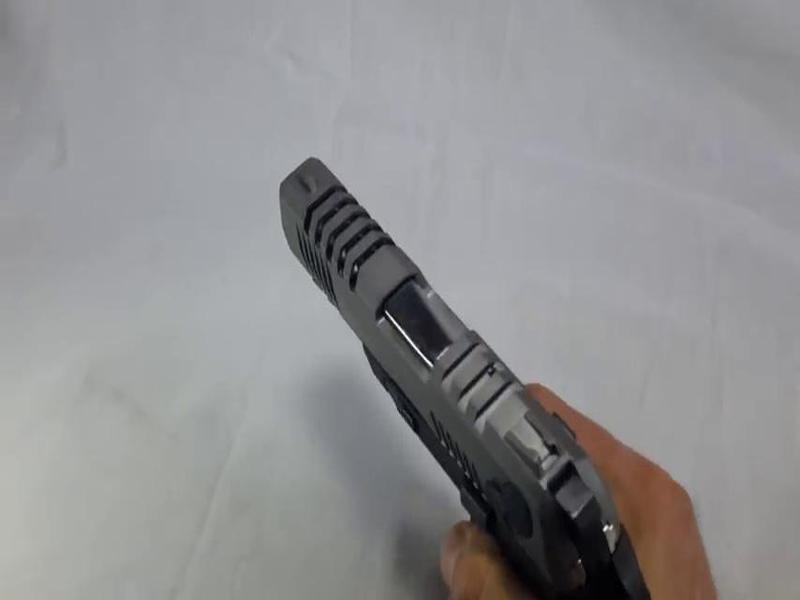Pistola: (234, 147, 671, 600)
